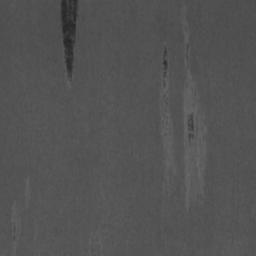Iron scale compression: (182, 0, 203, 212), (161, 46, 174, 195), (61, 0, 79, 80)
